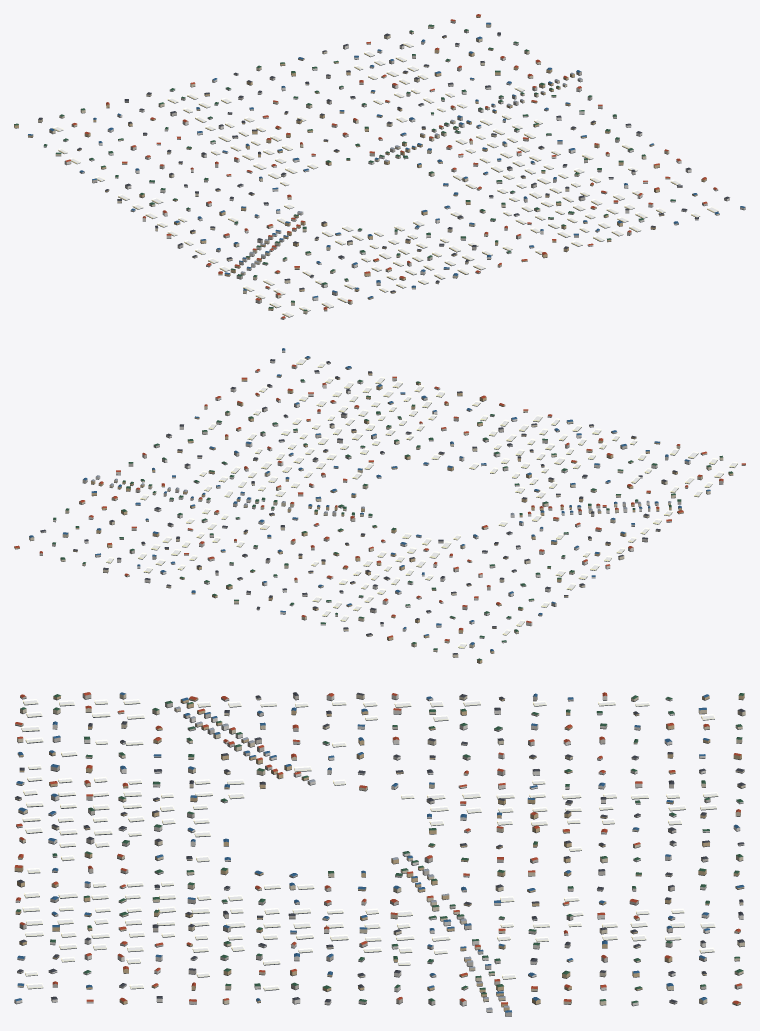
File: buildings_T_W07_N06.glb
3 renders of one model, top to bottom at view 1: azimuth 30°, elevation 25°; view 2: azimuth 150°, elevation 25°; view 3: azimuth 270°, elevation 25°, orthographic. The views are drawn at different scales.
Visible parts, largest first — view 1: T_W07_N06_slope_seating_foundations, T_W07_N06_roofs_agri_greenhouse_arch, T_W07_N06_walls_wall_french_ochre_villa, T_W07_N06_walls_wall_modern_warm_white, T_W07_N06_walls_wall_dalat_cream_stucco, T_W07_N06_walls_wall_pastel_sand_gray, T_W07_N06_roofs_roof_pine_green_hip, T_W07_N06_roofs_roof_terracotta_gable, T_W07_N06_roofs_roof_slate_French_villa_hip, T_W07_N06_roofs_roof_highland_blue_gable; view 2: T_W07_N06_slope_seating_foundations, T_W07_N06_roofs_agri_greenhouse_arch, T_W07_N06_walls_wall_french_ochre_villa, T_W07_N06_walls_wall_modern_warm_white, T_W07_N06_walls_wall_dalat_cream_stucco, T_W07_N06_walls_wall_pastel_sand_gray, T_W07_N06_roofs_roof_pine_green_hip, T_W07_N06_roofs_roof_terracotta_gable, T_W07_N06_roofs_roof_slate_French_villa_hip, T_W07_N06_roofs_roof_highland_blue_gable; view 3: T_W07_N06_slope_seating_foundations, T_W07_N06_roofs_agri_greenhouse_arch, T_W07_N06_walls_wall_french_ochre_villa, T_W07_N06_walls_wall_dalat_cream_stucco, T_W07_N06_walls_wall_modern_warm_white, T_W07_N06_walls_wall_pastel_sand_gray, T_W07_N06_roofs_roof_pine_green_hip, T_W07_N06_roofs_roof_terracotta_gable, T_W07_N06_roofs_roof_highland_blue_gable, T_W07_N06_roofs_roof_slate_French_villa_hip.
Part boxes in pixels (x1,y1,x2,y2): T_W07_N06_slope_seating_foundations: (14,17,745,319); T_W07_N06_roofs_agri_greenhouse_arch: (52,41,718,316); T_W07_N06_walls_wall_french_ochre_villa: (14,16,706,310); T_W07_N06_walls_wall_modern_warm_white: (43,42,745,300); T_W07_N06_walls_wall_dalat_cream_stucco: (38,23,719,313); T_W07_N06_walls_wall_pastel_sand_gray: (79,20,707,319); T_W07_N06_roofs_roof_pine_green_hip: (14,24,675,310); T_W07_N06_roofs_roof_terracotta_gable: (65,14,717,318); T_W07_N06_roofs_roof_slate_French_villa_hip: (38,32,729,292); T_W07_N06_roofs_roof_highland_blue_gable: (28,22,744,298); T_W07_N06_slope_seating_foundations: (14,352,745,663); T_W07_N06_roofs_agri_greenhouse_arch: (106,358,737,648); T_W07_N06_walls_wall_french_ochre_villa: (14,372,733,663); T_W07_N06_walls_wall_modern_warm_white: (53,350,690,642); T_W07_N06_walls_wall_dalat_cream_stucco: (29,357,723,657); T_W07_N06_walls_wall_pastel_sand_gray: (39,362,745,616); T_W07_N06_roofs_roof_pine_green_hip: (52,379,732,660); T_W07_N06_roofs_roof_terracotta_gable: (14,364,745,641); T_W07_N06_roofs_roof_slate_French_villa_hip: (40,359,677,654); T_W07_N06_roofs_roof_highland_blue_gable: (29,348,710,651); T_W07_N06_slope_seating_foundations: (14,697,745,1016); T_W07_N06_roofs_agri_greenhouse_arch: (21,699,718,990); T_W07_N06_walls_wall_french_ochre_villa: (14,694,744,1011); T_W07_N06_walls_wall_dalat_cream_stucco: (15,694,745,1004); T_W07_N06_walls_wall_modern_warm_white: (14,694,743,1012); T_W07_N06_walls_wall_pastel_sand_gray: (16,693,744,1016); T_W07_N06_roofs_roof_pine_green_hip: (16,693,744,1003); T_W07_N06_roofs_roof_terracotta_gable: (14,692,741,1004); T_W07_N06_roofs_roof_highland_blue_gable: (15,692,744,1012); T_W07_N06_roofs_roof_slate_French_villa_hip: (15,692,745,1002).
Size of the model in its own units: 1834 by 28.02 by 1776.
